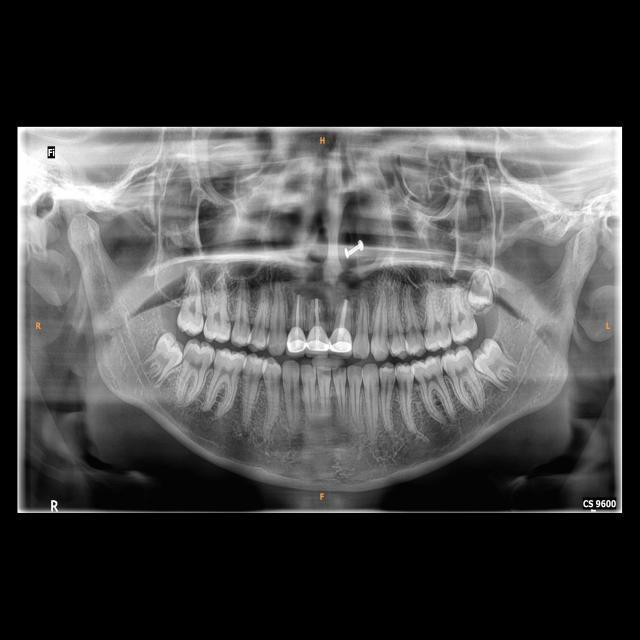kanal-tedavisi: (308, 293, 325, 334), (292, 296, 308, 334), (336, 296, 353, 330)
kaplama: (306, 326, 332, 354), (330, 327, 353, 354), (287, 328, 308, 354)
